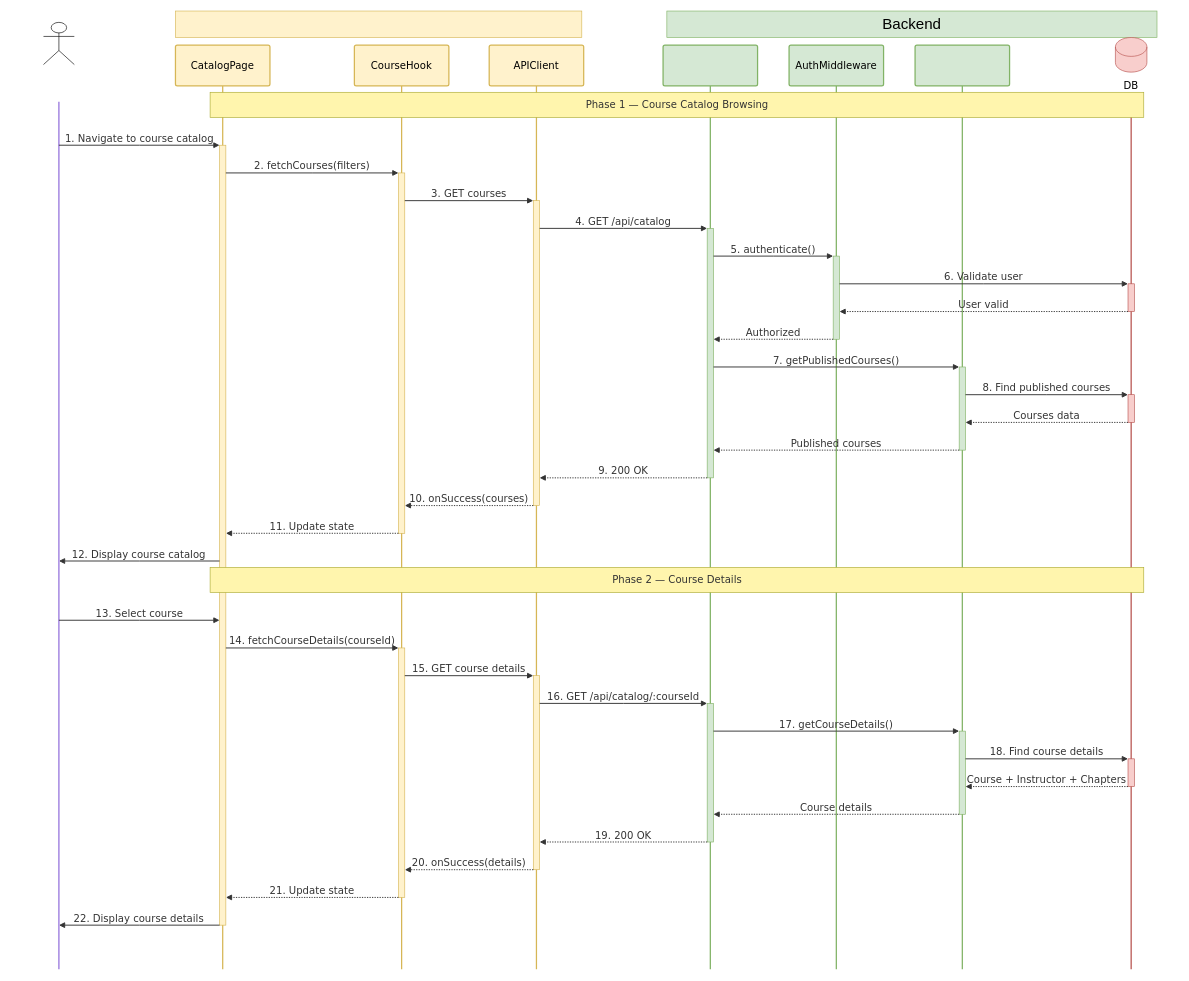
The diagram is 1189 pixels wide and 981 high, and some of its shapes have lost their labels. The box of each missing label's shape, as (x1, y1, x2, y2) in pixels:
CatalogController: (662, 44, 758, 970)
CourseService: (914, 44, 1010, 970)
Frontend: (175, 10, 582, 37)
Student: (11, 44, 106, 970)
